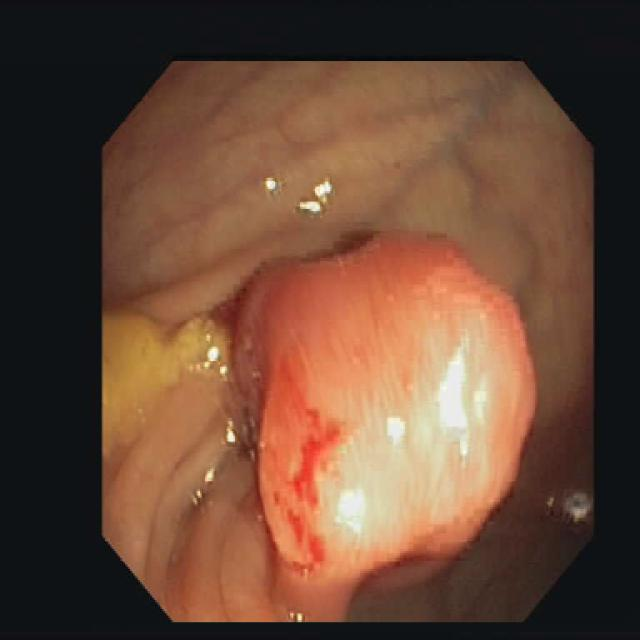tumor: (237, 236, 533, 616)
